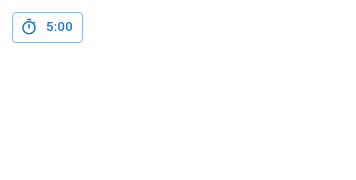
it: TimerControls duration › does not start a custom duration left empty
Click the button named "Choose the timer duration".
click(48, 27)  # box [12, 12, 83, 43]
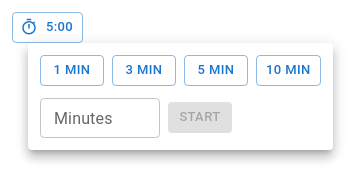
Result: the button "Start" is disabled at [168, 102, 232, 133]
